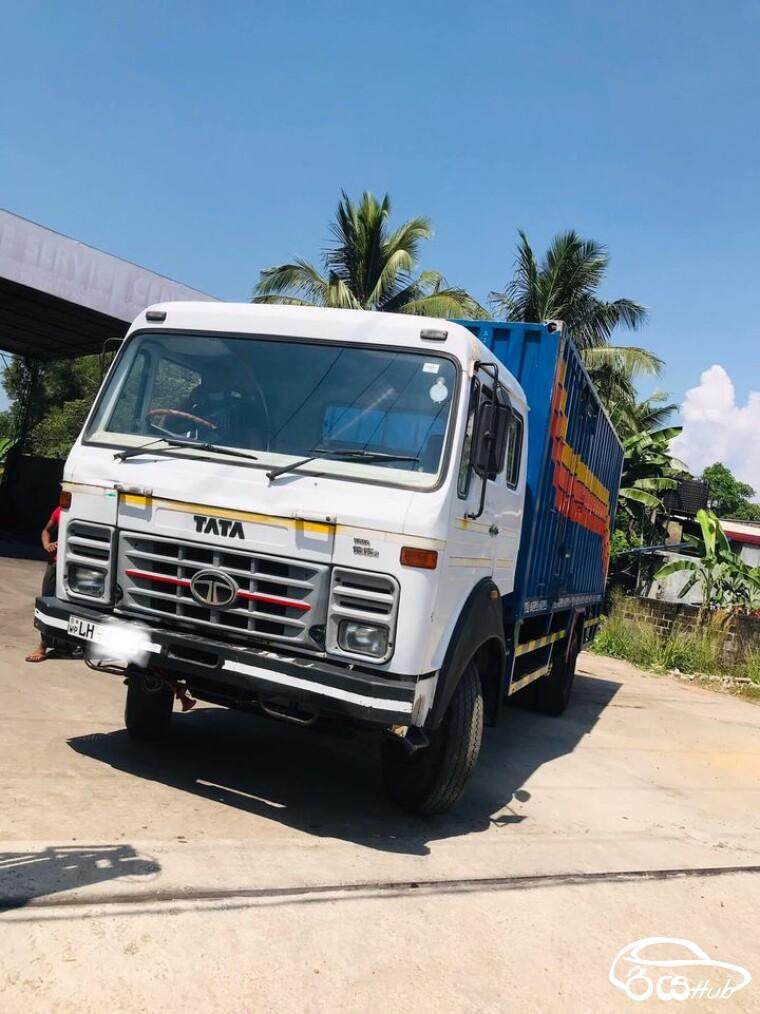truck: (32, 299, 626, 820)
